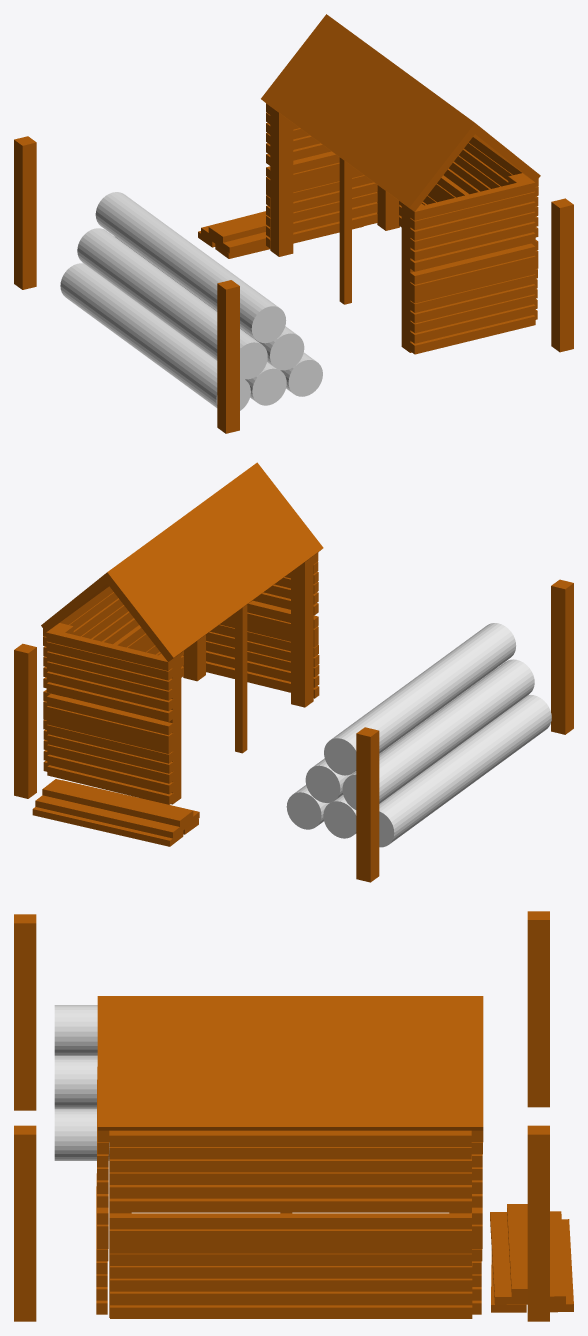
Rendered from Holzfällerlager.fbx.
3 renders of one model, top to bottom at view 1: azimuth 30°, elevation 25°; view 2: azimuth 150°, elevation 25°; view 3: azimuth 270°, elevation 25°, orthographic. The views are drawn at different scales.
Parts seen in each view (by area): view 1: Cube.019, Cylinder.005, Cylinder.004, Cylinder, Cube.168, Cube.170, Cube.169, Cube.032, Cube.017, Cube.058, Cube.076, Cube.070 (+28 smaller); view 2: Cube.019, Cylinder.005, Cylinder, Cylinder.004, Cube.168, Cube.020, Cube.169, Cube.040, Cube.057, Cube.017, Cube.055, Cube.058 (+29 smaller); view 3: Cube.017, Cube.001, Cube.007, Cube.006, Cube.013, Cube.003, Cube.005, Cube.014, Cube.008, Cube.012, Cube.011, Cube.002 (+14 smaller).
Part boxes in pixels (<box>): Cube.019: <box>261,21,474,211</box>; Cylinder.005: <box>95,192,286,343</box>; Cylinder.004: <box>77,228,267,379</box>; Cylinder: <box>60,263,250,410</box>; Cube.168: <box>14,136,36,289</box>; Cube.170: <box>551,198,573,352</box>; Cube.169: <box>217,280,239,433</box>; Cube.032: <box>270,106,293,256</box>; Cube.017: <box>321,14,540,182</box>; Cube.058: <box>339,157,351,304</box>; Cube.076: <box>410,243,535,284</box>; Cube.070: <box>410,179,535,220</box>; Cube.019: <box>107,469,323,661</box>; Cylinder.005: <box>324,623,516,775</box>; Cylinder: <box>379,695,551,847</box>; Cylinder.004: <box>342,659,534,809</box>; Cube.168: <box>356,727,379,882</box>; Cube.020: <box>14,643,36,798</box>; Cube.169: <box>551,579,573,734</box>; Cube.040: <box>291,556,313,707</box>; Cube.057: <box>42,779,193,826</box>; Cube.017: <box>41,462,262,632</box>; Cube.055: <box>35,795,186,838</box>; Cube.058: <box>235,604,247,753</box>; Cube.017: <box>97,996,483,1130</box>; Cube.001: <box>109,1130,471,1146</box>; Cube.007: <box>109,1213,471,1229</box>; Cube.006: <box>109,1198,471,1212</box>; Cube.013: <box>110,1291,472,1305</box>; Cube.003: <box>109,1156,471,1172</box>; Cube.005: <box>109,1185,471,1198</box>; Cube.014: <box>110,1305,472,1318</box>; Cube.008: <box>109,1229,471,1242</box>; Cube.012: <box>110,1278,472,1291</box>; Cube.011: <box>110,1263,472,1278</box>; Cube.002: <box>109,1147,471,1159</box>.
Size of the model in its own units: 2060 by 1247 by 2172.
